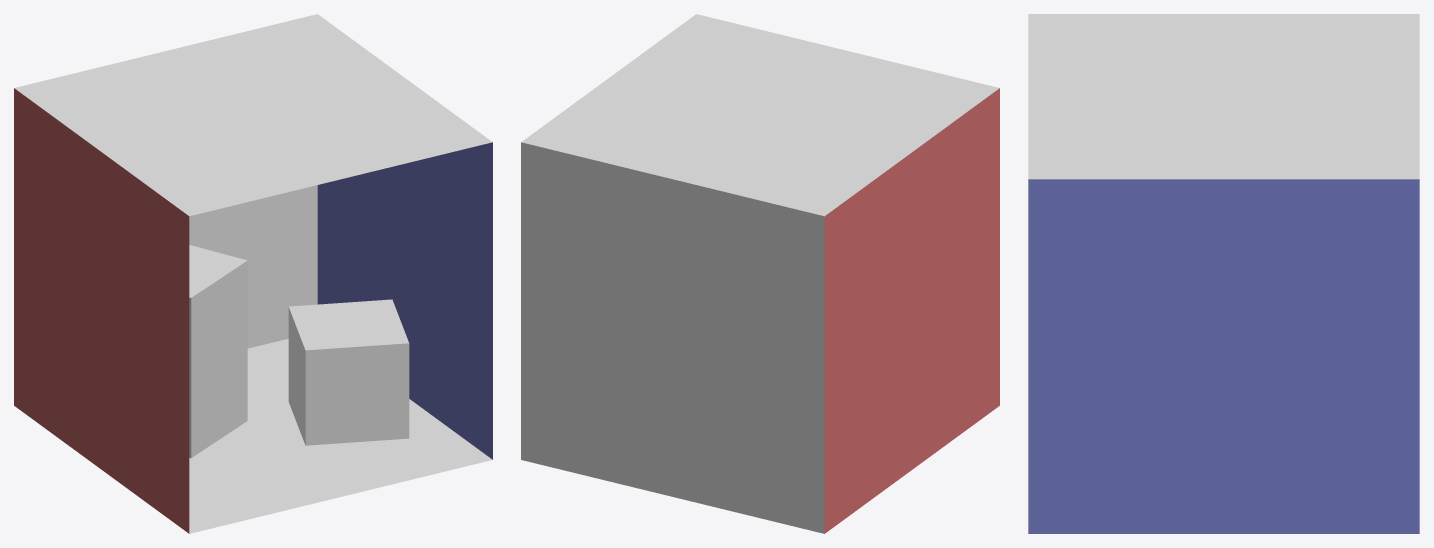
Rendered from CornellBoxCubeLighten.fbx.
The picture shows the model from 3 angles, left to right: view 1: azimuth 30°, elevation 25°; view 2: azimuth 150°, elevation 25°; view 3: azimuth 270°, elevation 25°; orthographic projection. The views are drawn at different scales.
Parts seen in each view (by area): view 1: Cube, Cube.002, Cube.001; view 2: Cube; view 3: Cube.
Boxes of the visible parts, x1,y1,x2,y2 form: Cube: [14, 14, 492, 533]; Cube.002: [288, 299, 409, 445]; Cube.001: [189, 245, 247, 458]; Cube: [521, 14, 999, 533]; Cube: [1028, 14, 1419, 533].
Bounding box in the file's own units: 2 × 2.01 × 2.
